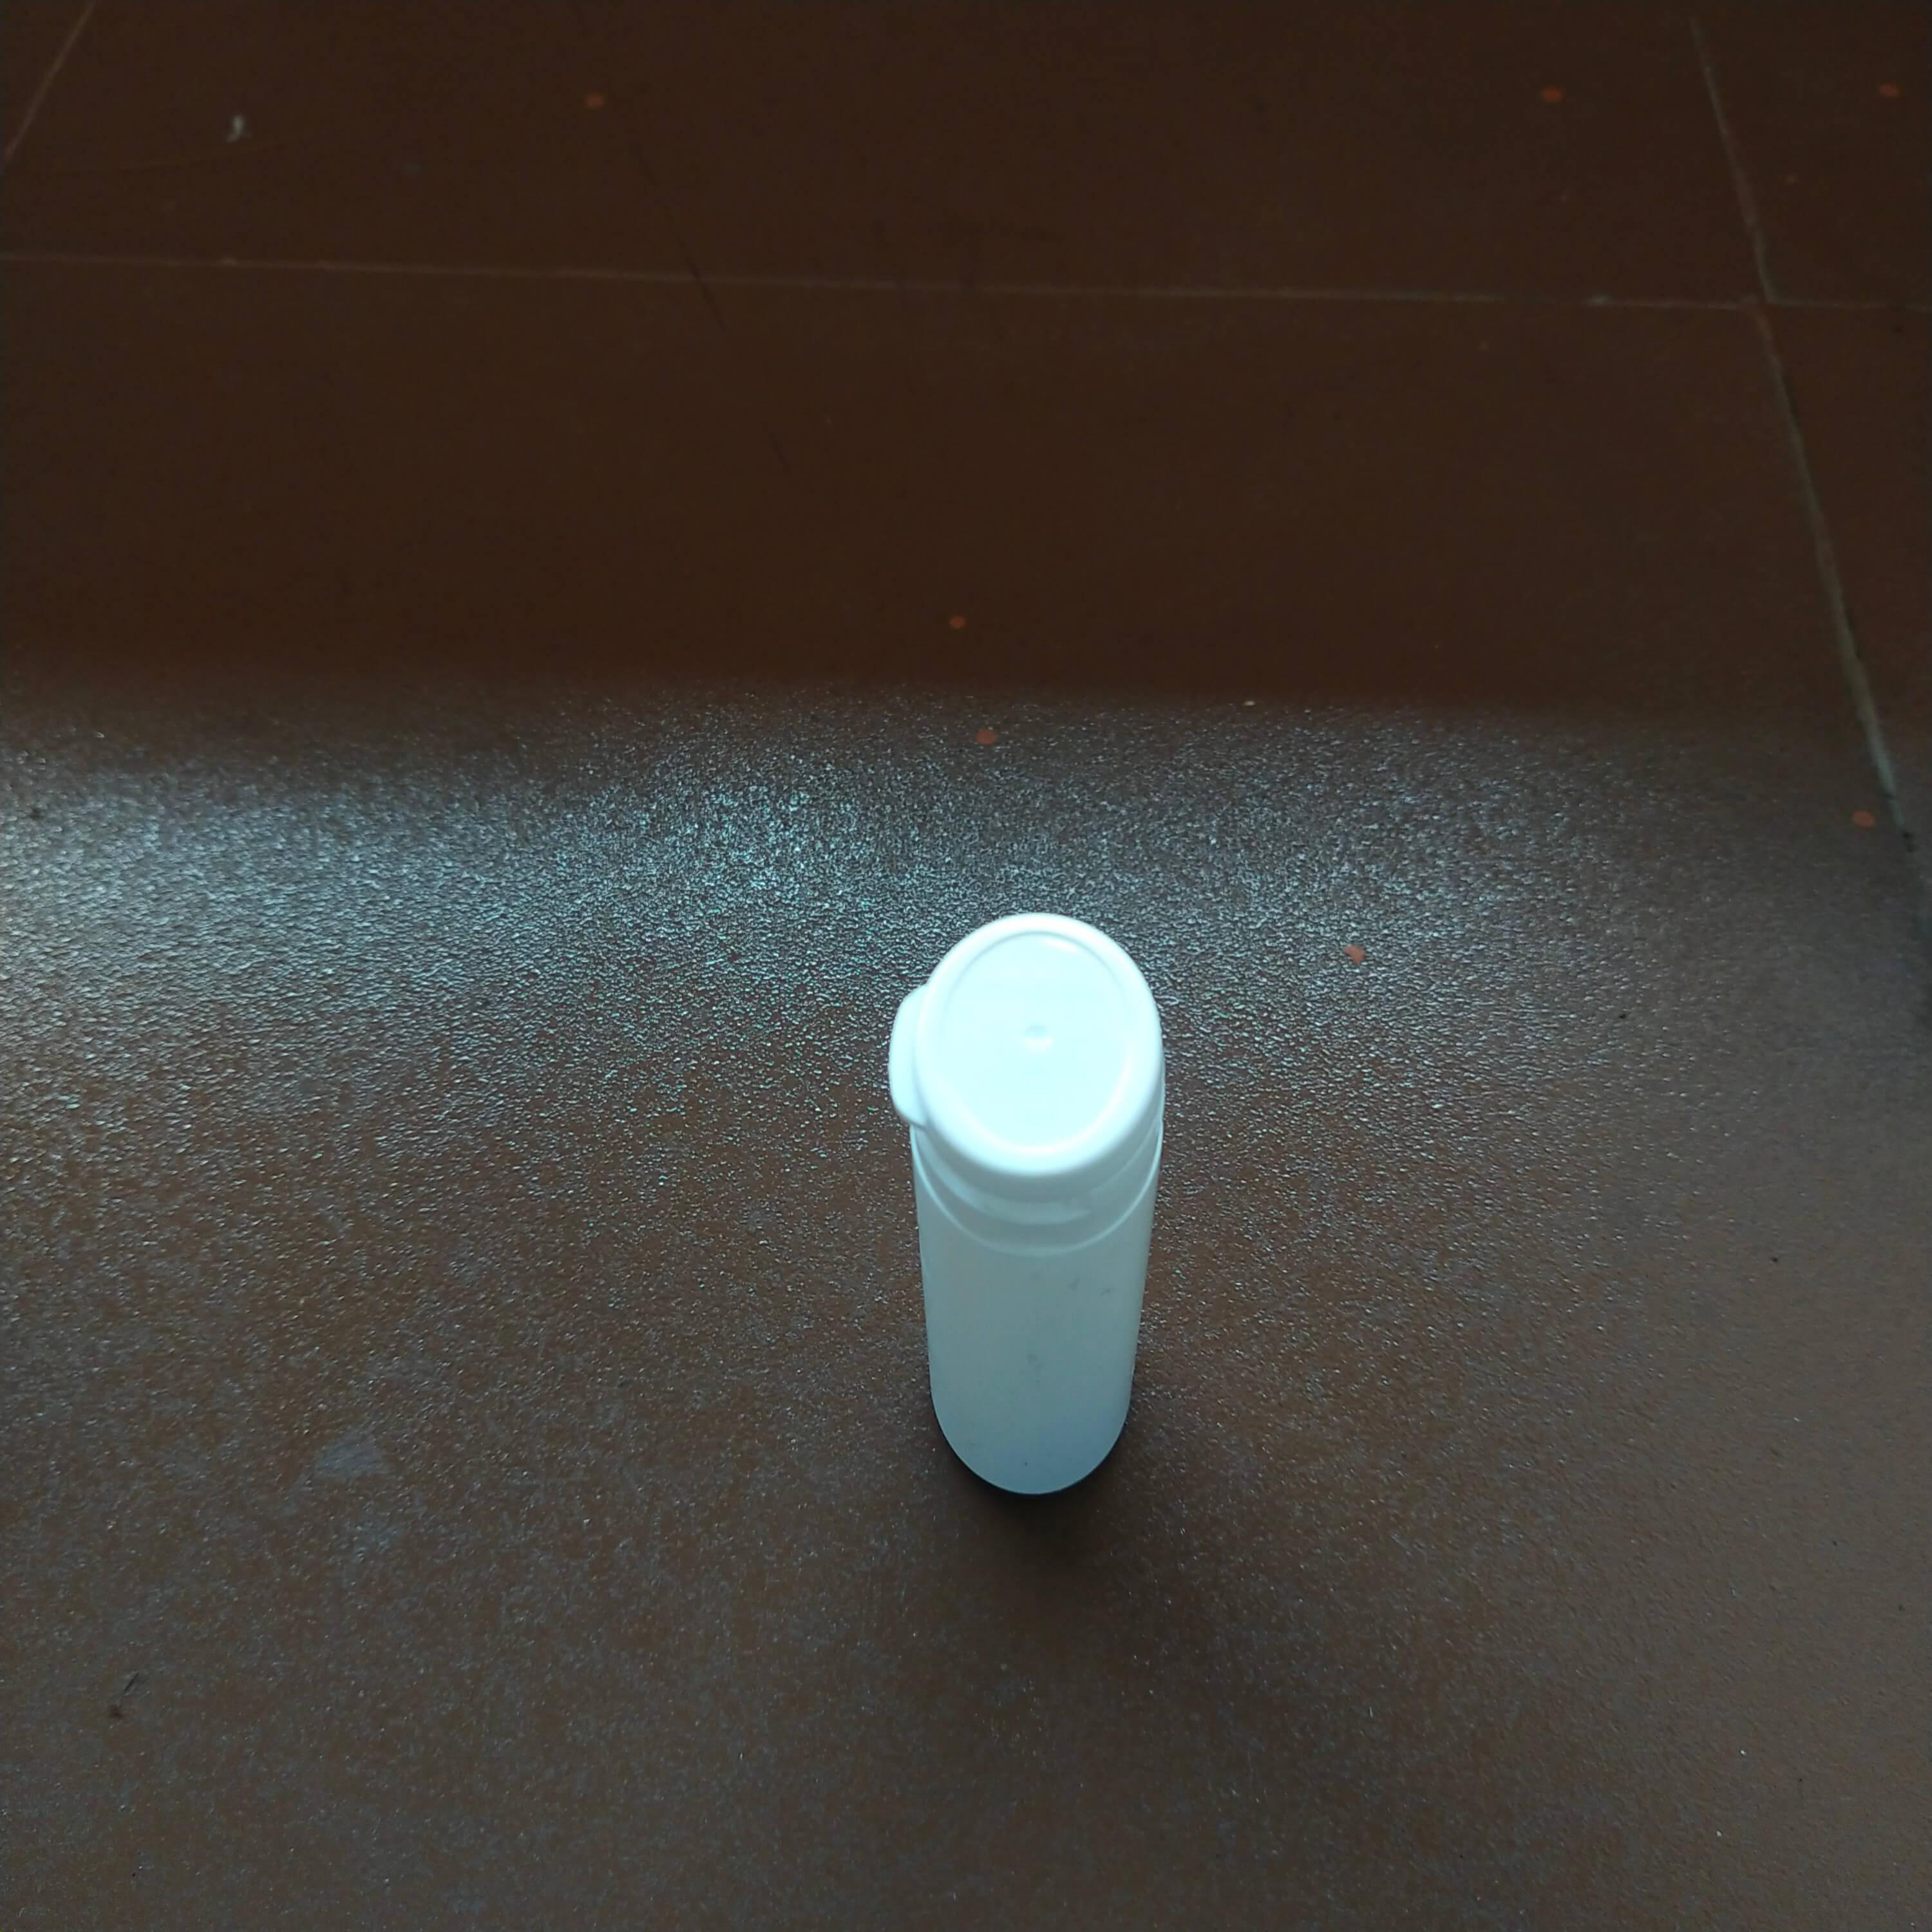plastic box: (819, 895, 1235, 1553)
